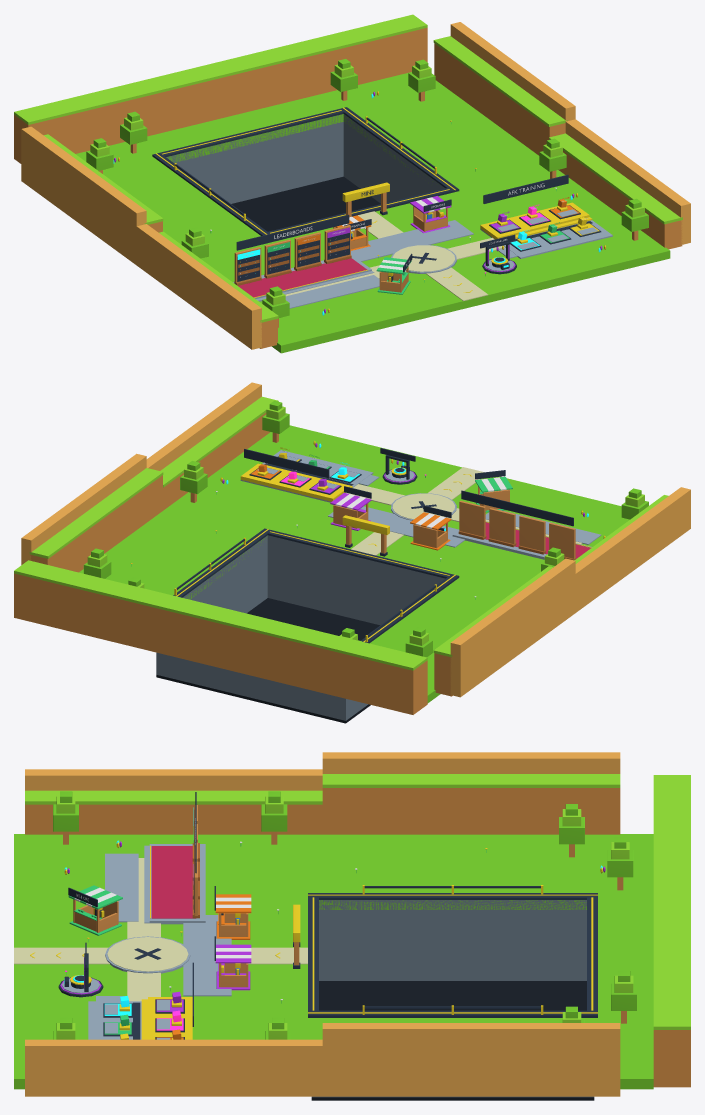
The model's file is EnergyCoreLobby-V2-Colored.fbx.
3 views of the same model, one above another, from view 1: azimuth 30°, elevation 25°; view 2: azimuth 150°, elevation 25°; view 3: azimuth 270°, elevation 25° (orthographic). The views are drawn at different scales.
Parts seen in each view (by area): view 1: Compact lobby ground, East mine verge, MineEndWall.001, Rear mine verge, West mine verge, MineSideWall.001, Illustrative empty pit floor, Rear wall.003, Rear wall.004, Rear wall.005, Rear wall.007, Second cliff tier.004 (+55 smaller); view 2: Compact lobby ground, MineEndWall, East mine verge, MineEndWall.001, West mine verge, MineSideWall.001, Illustrative empty pit floor, Rear wall, Second cliff tier.007, Rear wall.003, Rear wall.002, Rear wall.001 (+55 smaller); view 3: Compact lobby ground, MineSideWall, West mine verge, Rear mine verge, Illustrative empty pit floor, Second cliff tier.012, Second cliff tier.013, Second cliff tier.014, Second cliff tier.015, Second cliff tier.008, Second cliff tier.011, Second cliff tier.009 (+56 smaller).
Boxes of the visible parts, box(x1,y1,x2,y2) form: Compact lobby ground: box(201, 167, 670, 353); East mine verge: box(343, 88, 541, 187); MineEndWall.001: box(166, 114, 343, 203); Rear mine verge: box(76, 73, 446, 172); West mine verge: box(103, 159, 259, 247); MineSideWall.001: box(343, 114, 445, 203); Illustrative empty pit floor: box(231, 176, 380, 231); Rear wall.003: box(178, 76, 227, 128); Rear wall.004: box(228, 64, 277, 116); Rear wall.005: box(278, 52, 327, 104); Rear wall.007: box(377, 27, 427, 79); Second cliff tier.004: box(108, 190, 146, 265); Compact lobby ground: box(164, 425, 629, 594); MineEndWall: box(267, 535, 444, 625); East mine verge: box(79, 510, 267, 599); MineEndWall.001: box(156, 652, 348, 720); West mine verge: box(370, 581, 509, 676); MineSideWall.001: box(182, 535, 267, 613); Illustrative empty pit floor: box(156, 598, 379, 723); Rear wall: box(363, 658, 427, 714); Second cliff tier.007: box(450, 621, 489, 697); Rear wall.003: box(213, 622, 263, 678); Rear wall.002: box(263, 634, 313, 690); Rear wall.001: box(313, 646, 363, 702); Compact lobby ground: box(14, 834, 318, 1089); MineSideWall: box(319, 900, 586, 980); West mine verge: box(319, 834, 586, 909); Rear mine verge: box(587, 834, 653, 1089); Illustrative empty pit floor: box(311, 981, 594, 1100); Second cliff tier.012: box(322, 1023, 396, 1096); Second cliff tier.013: box(397, 1023, 471, 1096); Second cliff tier.014: box(471, 1023, 545, 1096); Second cliff tier.015: box(546, 1023, 620, 1096); Second cliff tier.008: box(25, 1039, 99, 1096); Second cliff tier.011: box(248, 1039, 322, 1096); Second cliff tier.009: box(99, 1039, 173, 1096).
Bounding box in the file's own units: 176 × 44.5 × 182.
